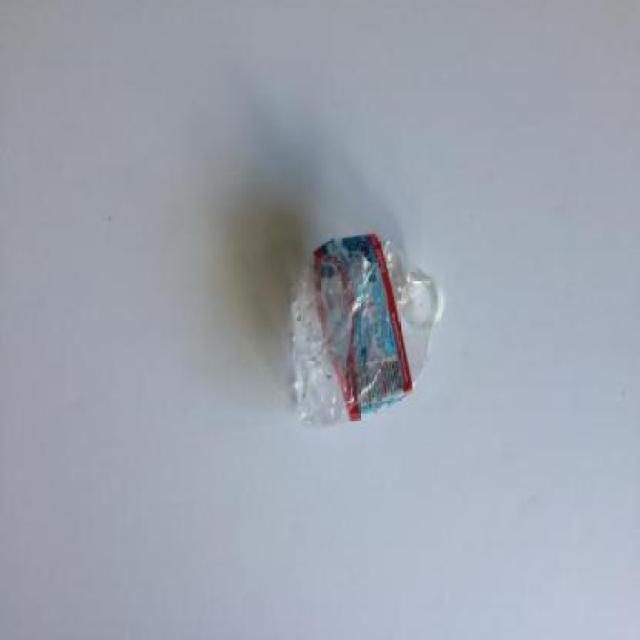PLASTIC: (292, 234, 446, 432), (314, 234, 412, 421)
